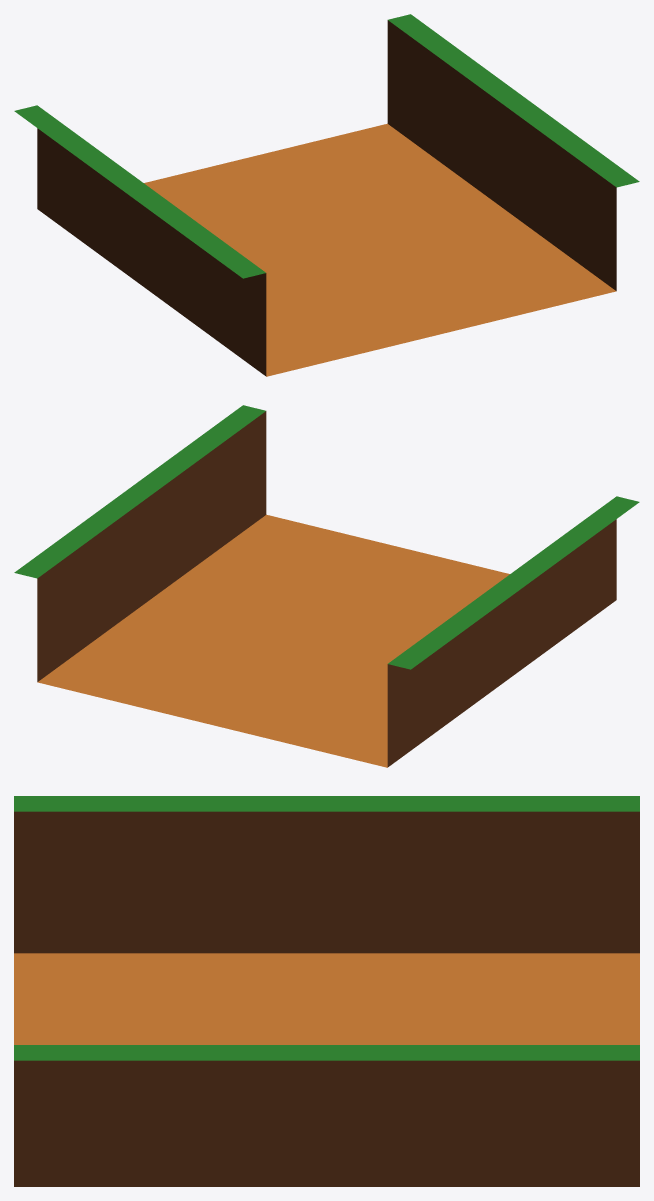
Rendered from Path_2_Way_Straight.fbx.
The picture shows the model from 3 angles, top to bottom: view 1: azimuth 30°, elevation 25°; view 2: azimuth 150°, elevation 25°; view 3: azimuth 270°, elevation 25°; orthographic projection. The views are drawn at different scales.
Visible parts, largest first — view 1: Path_2_Way_Straight; view 2: Path_2_Way_Straight; view 3: Path_2_Way_Straight.
Part boxes in pixels (left/top/right/bottom): Path_2_Way_Straight: left=14, top=14, right=639, bottom=376; Path_2_Way_Straight: left=14, top=405, right=639, bottom=767; Path_2_Way_Straight: left=14, top=796, right=639, bottom=1186.
Bounding box in the file's own units: 200 × 50 × 200.
